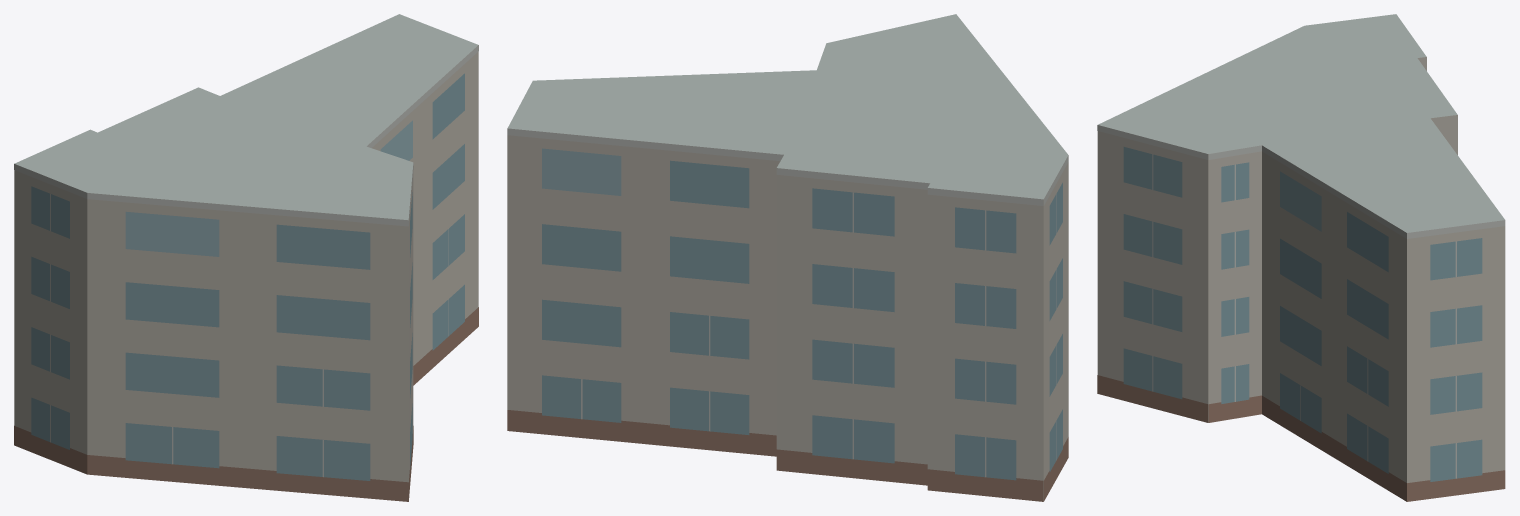
The model's file is survey-upis-32503948.glb.
The picture shows the model from 3 angles, left to right: view 1: azimuth 30°, elevation 25°; view 2: azimuth 150°, elevation 25°; view 3: azimuth 270°, elevation 25°; orthographic projection. The views are drawn at different scales.
Visible parts, largest first — view 1: survey-upis-32503948.tmp; view 2: survey-upis-32503948.tmp; view 3: survey-upis-32503948.tmp.
Part boxes in pixels (bbox=[...]): survey-upis-32503948.tmp: bbox=[14, 14, 478, 501]; survey-upis-32503948.tmp: bbox=[507, 14, 1068, 501]; survey-upis-32503948.tmp: bbox=[1097, 14, 1505, 501].
Size of the model in its own units: 19.05 by 10.9 by 14.99.
